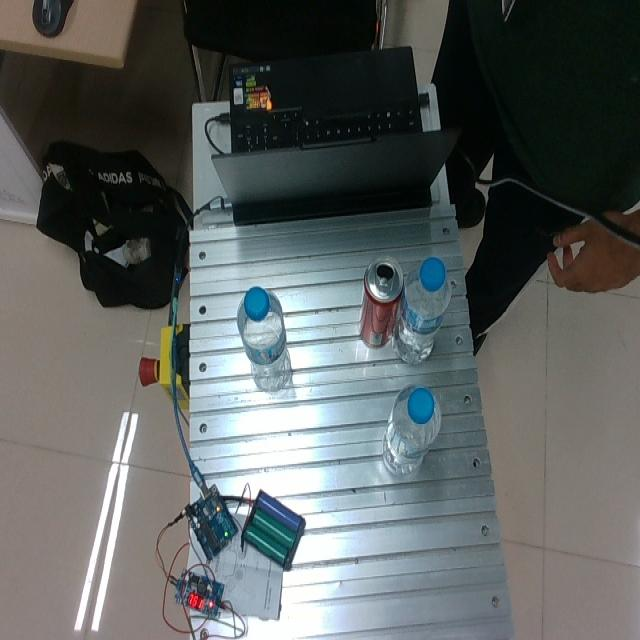coca: (358, 256, 404, 349)
lavie: (391, 259, 451, 364), (381, 384, 441, 476), (238, 289, 290, 392)
